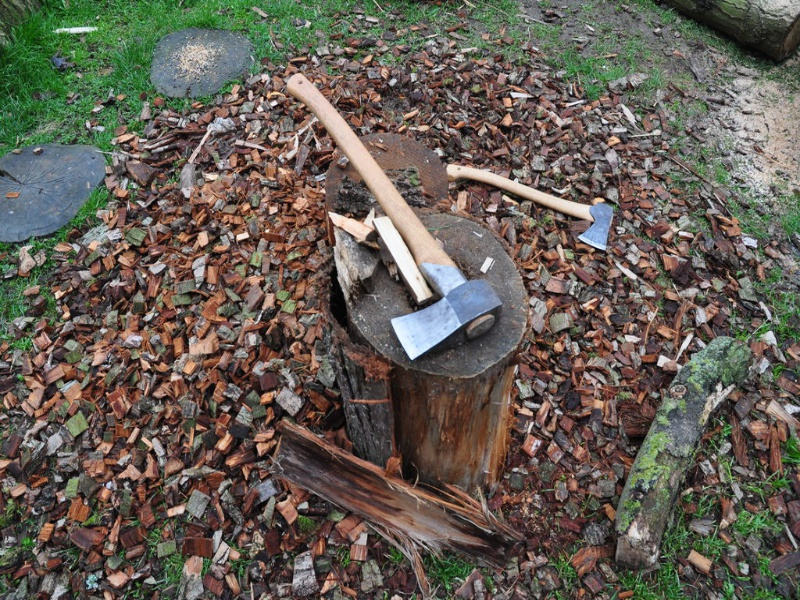axe: (388, 228, 505, 366), (559, 194, 621, 254)
